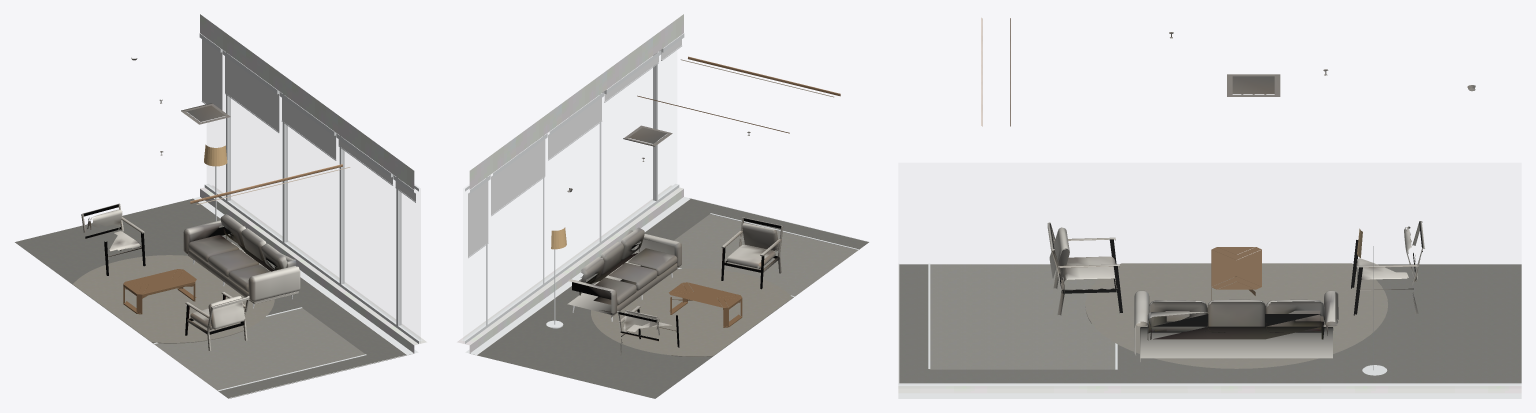
File: z-final-lite.full.df908cf7.glb
The picture shows the model from 3 angles, left to right: view 1: azimuth 30°, elevation 25°; view 2: azimuth 150°, elevation 25°; view 3: azimuth 270°, elevation 25°; orthographic projection. The views are drawn at different scales.
Visible parts, largest first — view 1: final_carpet, final_satin, final_fx, final_plaster, final_modern_coffee_table_01, final_emit, final_oak, final_metal_lit; view 2: final_carpet, final_satin, final_fx, final_plaster, final_modern_coffee_table_01, final_oak, final_metal_lit, final_emit; view 3: final_carpet, final_fx, final_satin, final_plaster, final_modern_coffee_table_01.
Boxes of the visible parts, box(x1,y1,x2,y2) form: final_carpet: box(15, 198, 413, 398); final_satin: box(153, 33, 422, 391); final_fx: box(81, 57, 300, 350); final_plaster: box(200, 14, 426, 353); final_modern_coffee_table_01: box(123, 269, 196, 314); final_emit: box(196, 144, 350, 204); final_oak: box(190, 164, 342, 203); final_metal_lit: box(193, 198, 408, 398); final_carpet: box(470, 199, 868, 398); final_satin: box(461, 33, 858, 354); final_fx: box(567, 125, 783, 355); final_plaster: box(457, 14, 683, 353); final_modern_coffee_table_01: box(669, 282, 742, 327); final_oak: box(637, 56, 840, 133); final_metal_lit: box(476, 198, 868, 354); final_emit: box(551, 59, 833, 249); final_carpet: box(899, 263, 1521, 383); final_fx: box(1047, 32, 1475, 361); final_satin: box(898, 246, 1521, 398); final_plaster: box(898, 386, 1521, 393); final_modern_coffee_table_01: box(1211, 247, 1261, 300).
Size of the model in its own units: 3.75 by 3.3 by 7.
9 materials, 4 textured.
